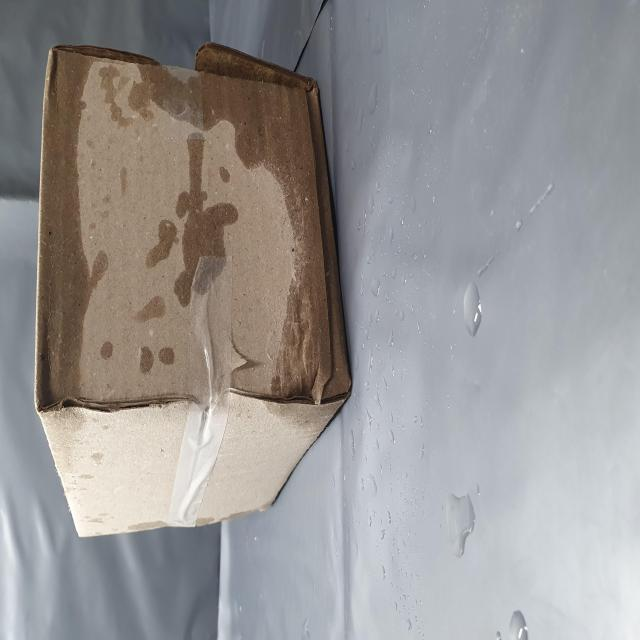wet: (122, 251, 330, 621), (134, 62, 342, 218)
